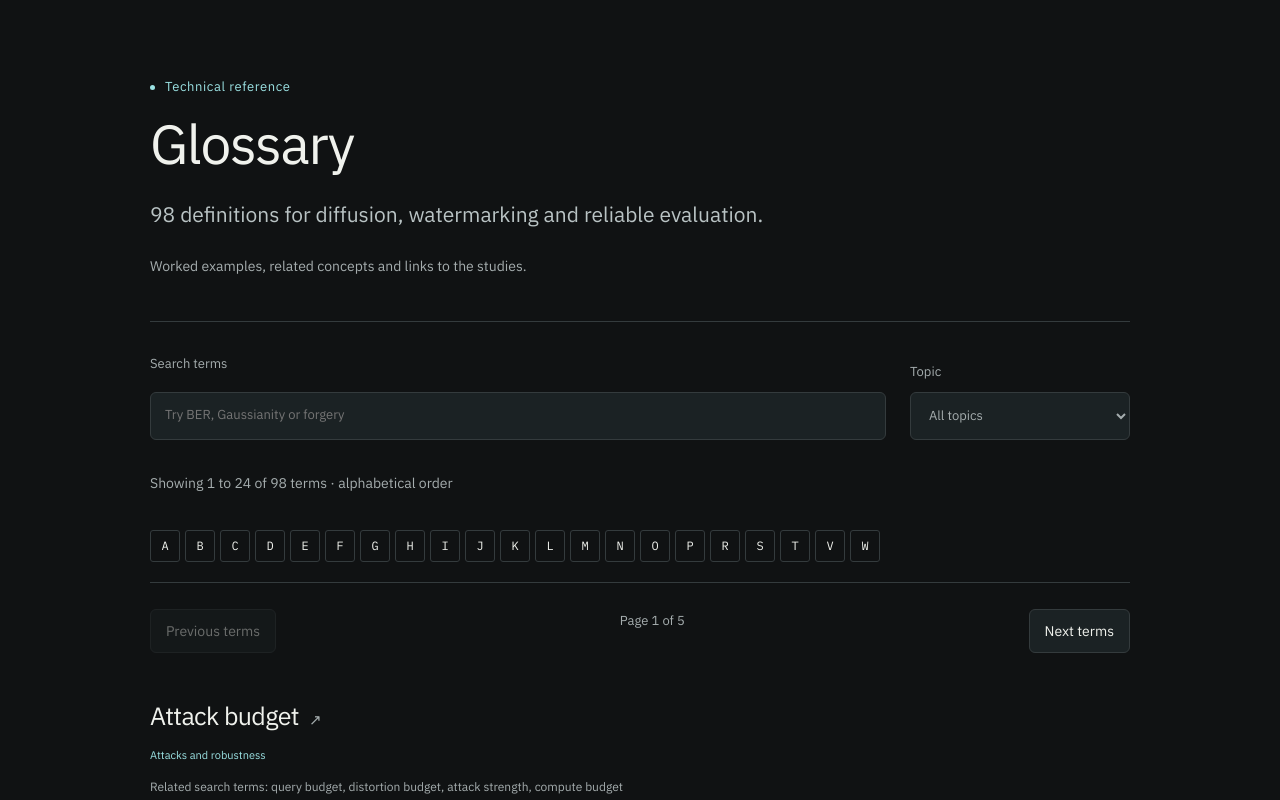
Test: glossary reading and navigation › keeps search focus and resets pagination after changing a query or topic
The width and height of the screenshot is (1280, 800).
Click the button "Next terms": (1079, 631) [1028,609,1130,653]
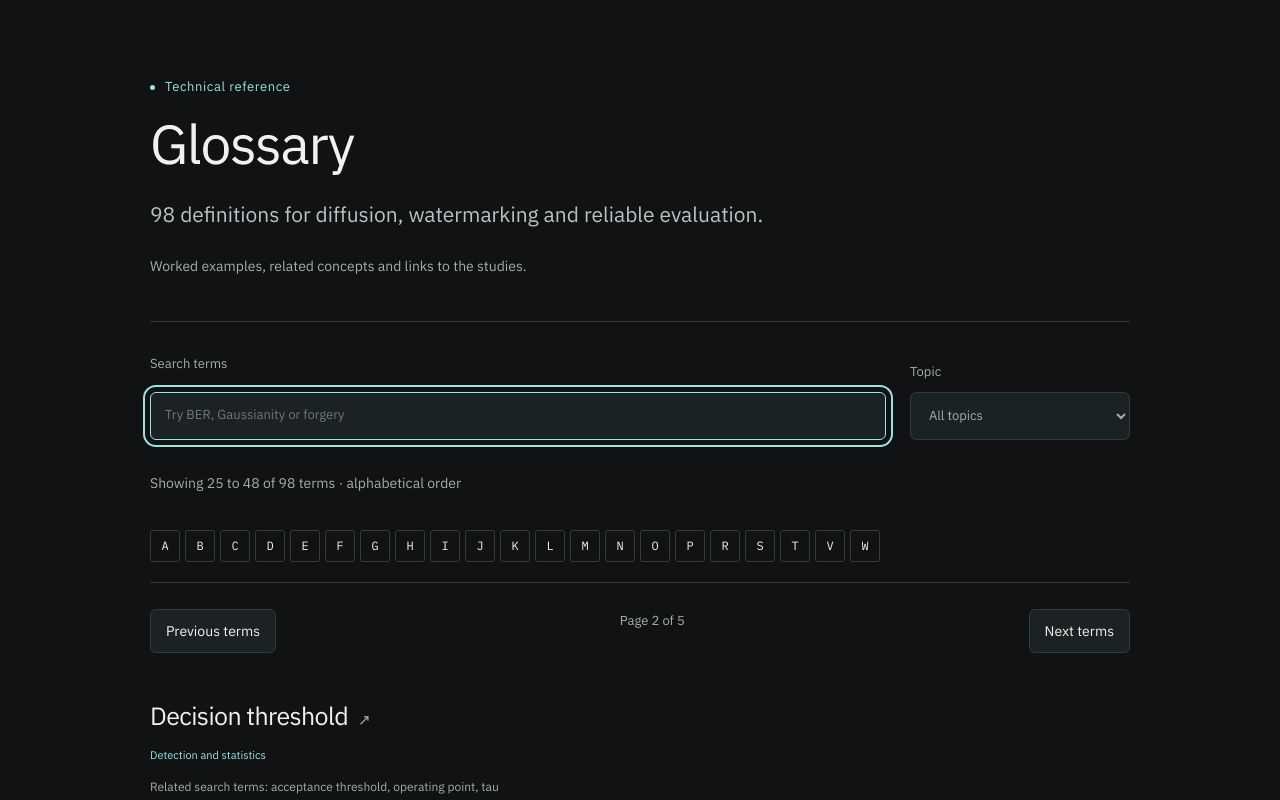
In the search field: (518, 416) [150,392,886,440], type "CFG"
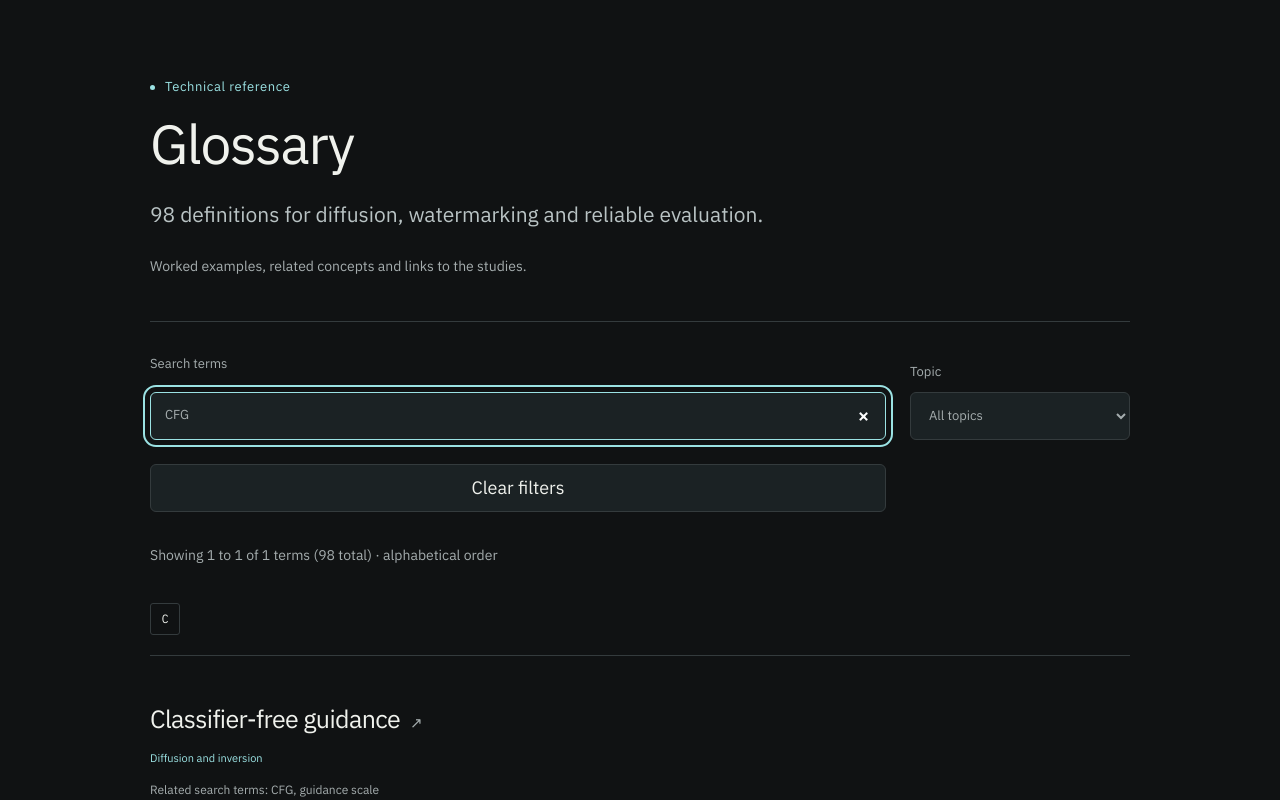
Now the message shows "Showing 1 to 1 of 1 terms", box [150,546,372,564]
Clear the search field: (518, 416) [150,392,886,440]
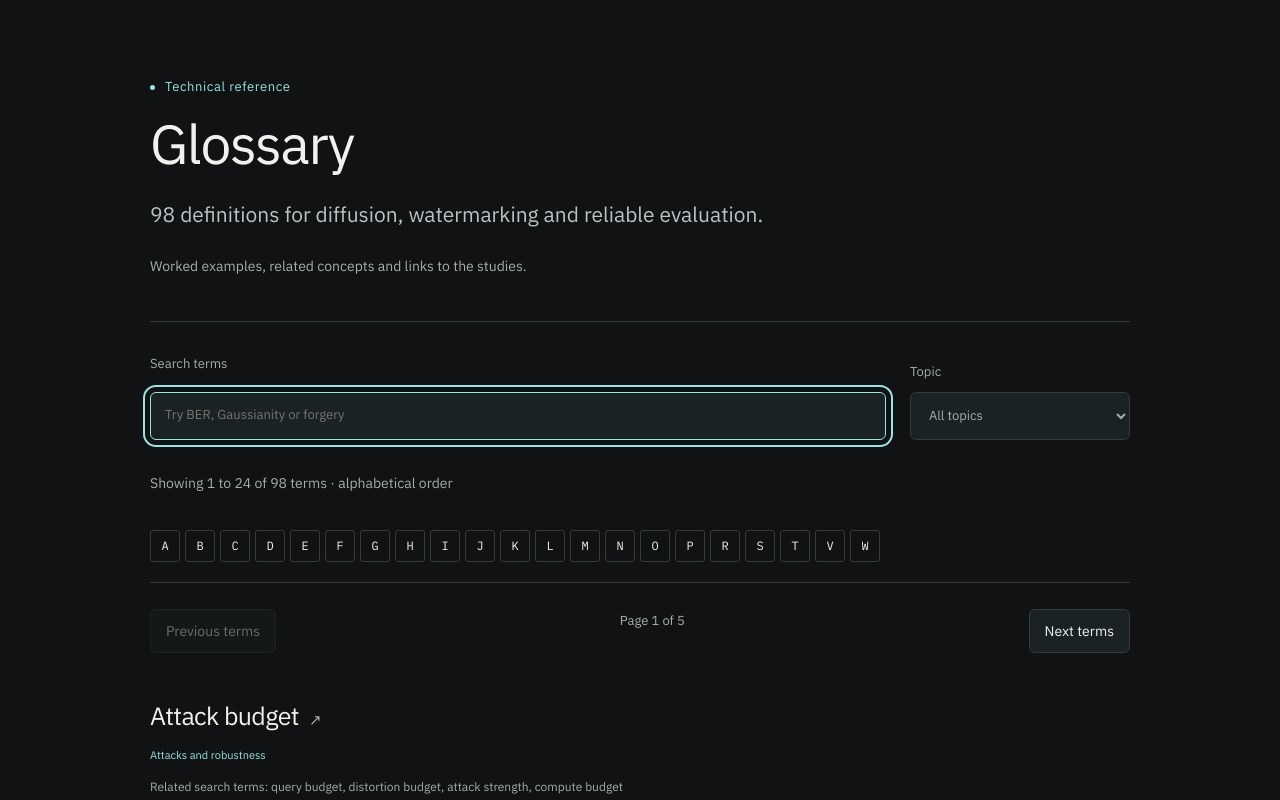
Now the message shows "Showing 1 to 24 of 98 terms", box [150,474,327,492]
Select "Detection and statistics" in the dropdown: (1020, 416) [910,392,1130,440]
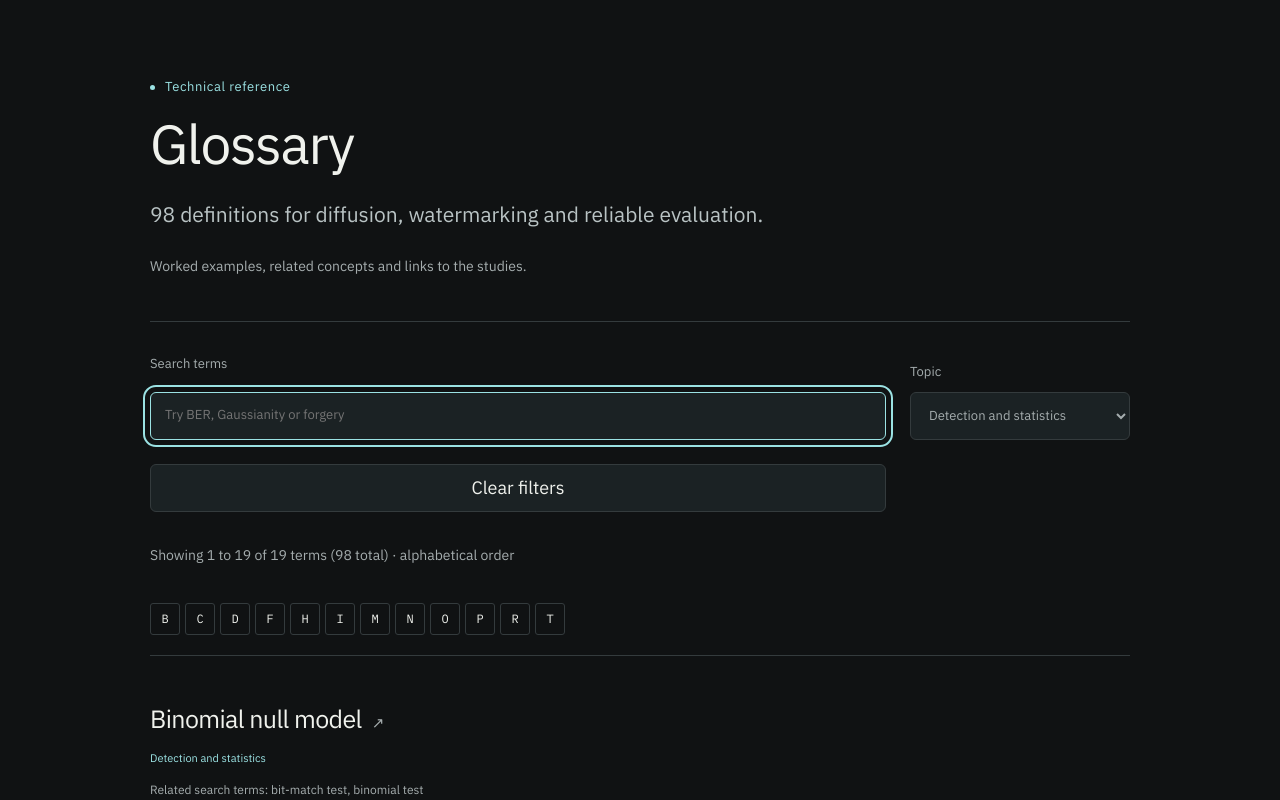
Now the message shows "Showing 1 to 19 of 19 terms", box [150,546,389,564]
